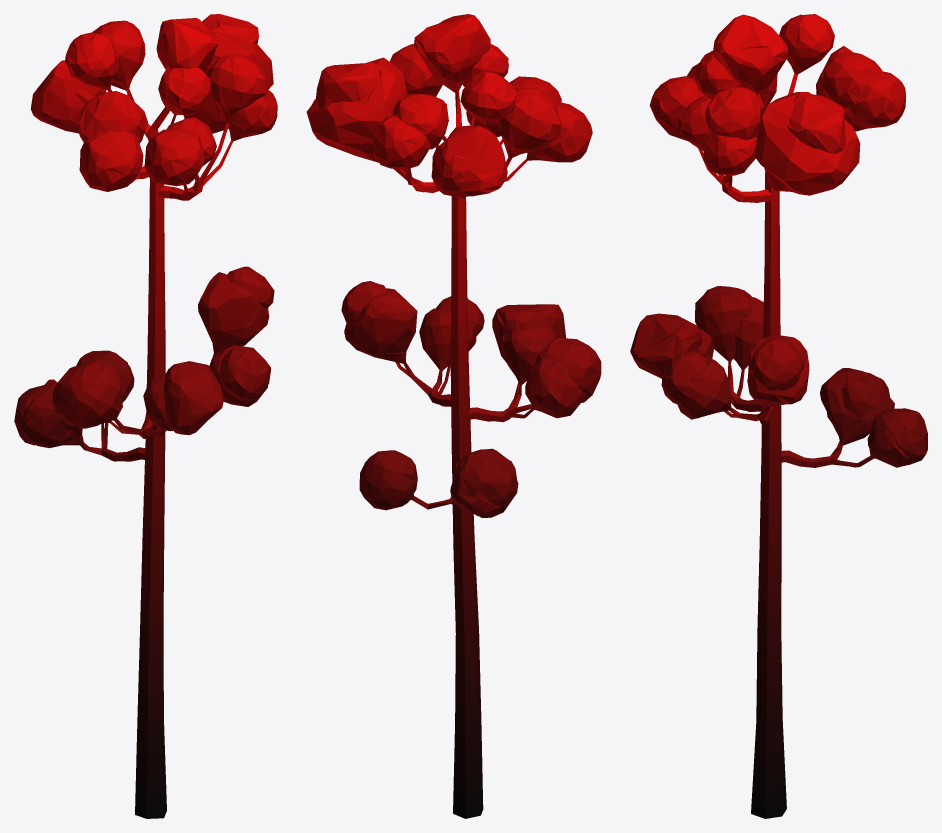
Rendered from TreePine06.fbx.
3 views of the same model, side by side, from view 1: azimuth 30°, elevation 25°; view 2: azimuth 150°, elevation 25°; view 3: azimuth 270°, elevation 25° (orthographic). The views are drawn at different scales.
Visible parts, largest first — view 1: TreePine06_LOD0; view 2: TreePine06_LOD0; view 3: TreePine06_LOD0.
Boxes of the visible parts, <box> form: TreePine06_LOD0: <box>14,14,277,818</box>; TreePine06_LOD0: <box>306,14,601,818</box>; TreePine06_LOD0: <box>630,14,927,818</box>.
Size of what is drawn, in the model's own units: 311 by 966 by 325.
